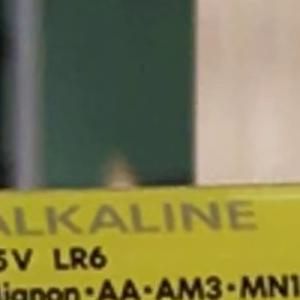keyword: (43, 236, 117, 280)
